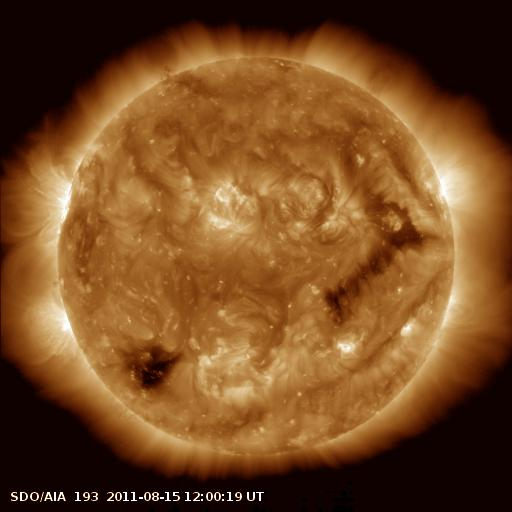coronal_hole: (326, 214, 424, 321), (120, 342, 191, 399)
